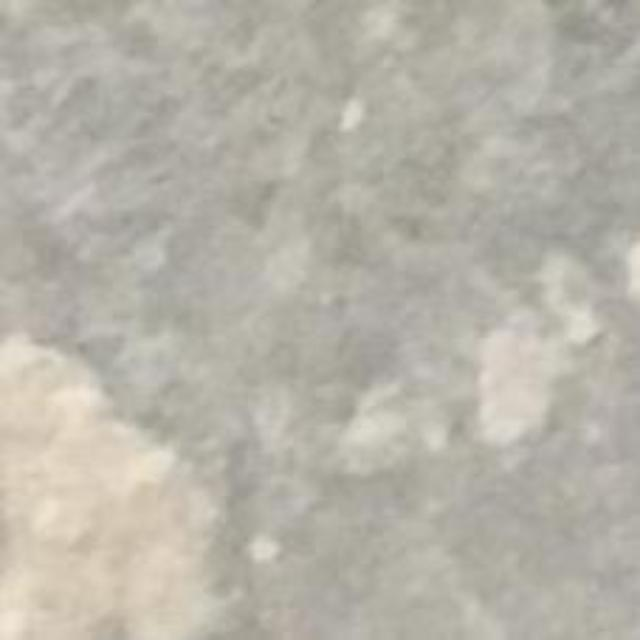peeling plaster: (0, 336, 214, 639)
